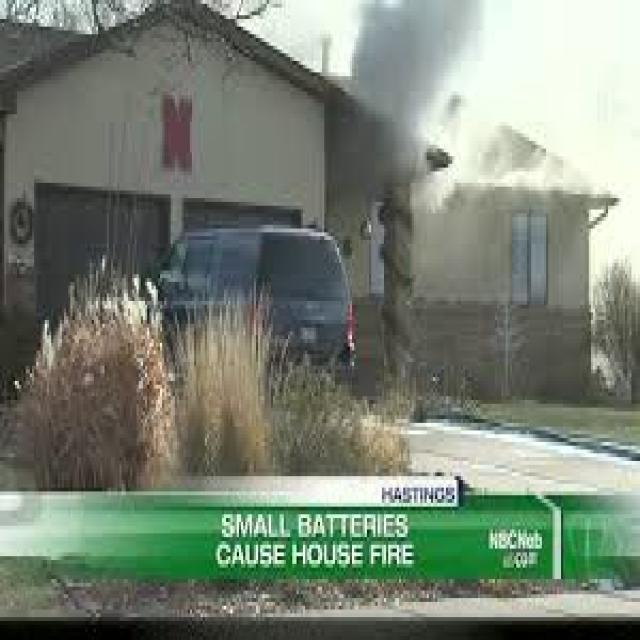Smoke: (328, 0, 593, 213)
